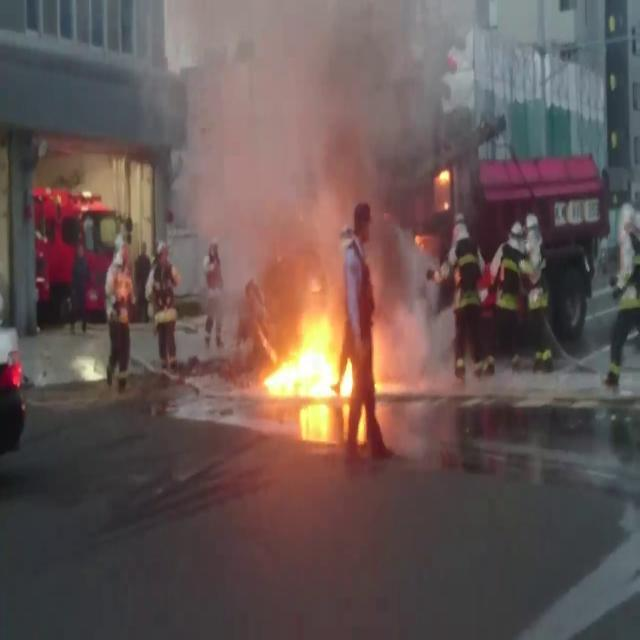Fire: (278, 327, 348, 401)
Smoke: (204, 14, 428, 292)
